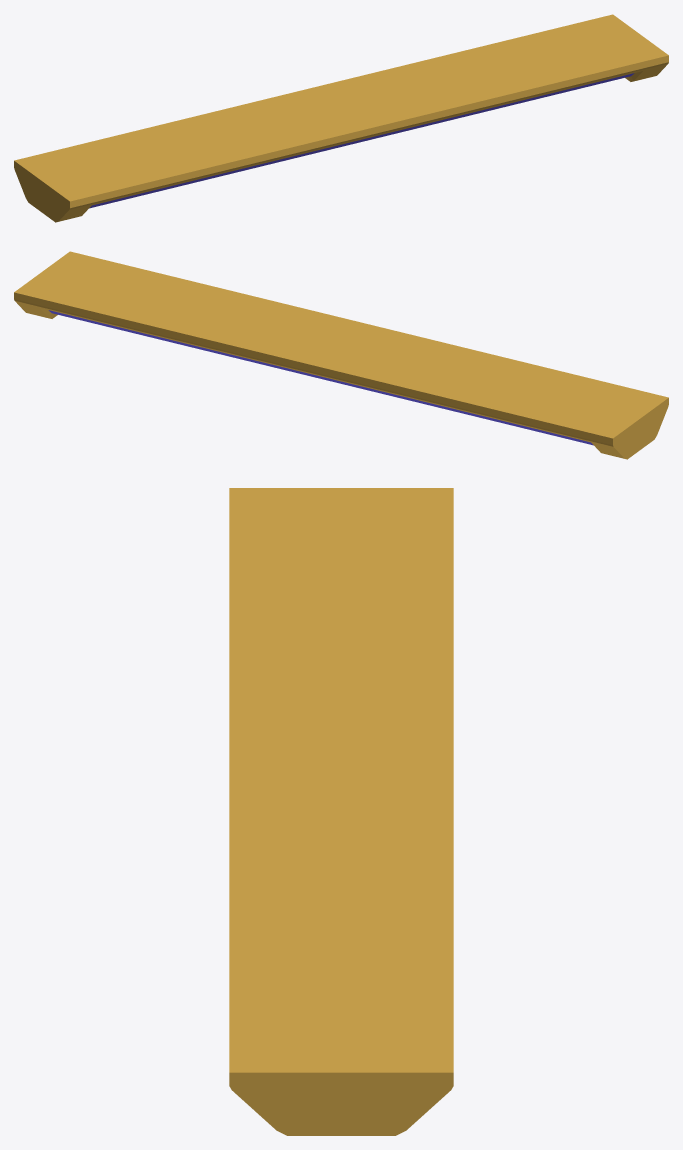
File: lamp.fbx
The picture shows the model from 3 angles, top to bottom: view 1: azimuth 30°, elevation 25°; view 2: azimuth 150°, elevation 25°; view 3: azimuth 270°, elevation 25°; orthographic projection. The views are drawn at different scales.
Visible parts, largest first — view 1: Light_2_Export; view 2: Light_2_Export; view 3: Light_2_Export.
Boxes of the visible parts, bbox=[...] form: Light_2_Export: bbox=[14, 14, 668, 222]; Light_2_Export: bbox=[14, 251, 668, 459]; Light_2_Export: bbox=[229, 488, 453, 1135].
Bounding box in the file's own units: 606 × 30.52 × 98.13.
